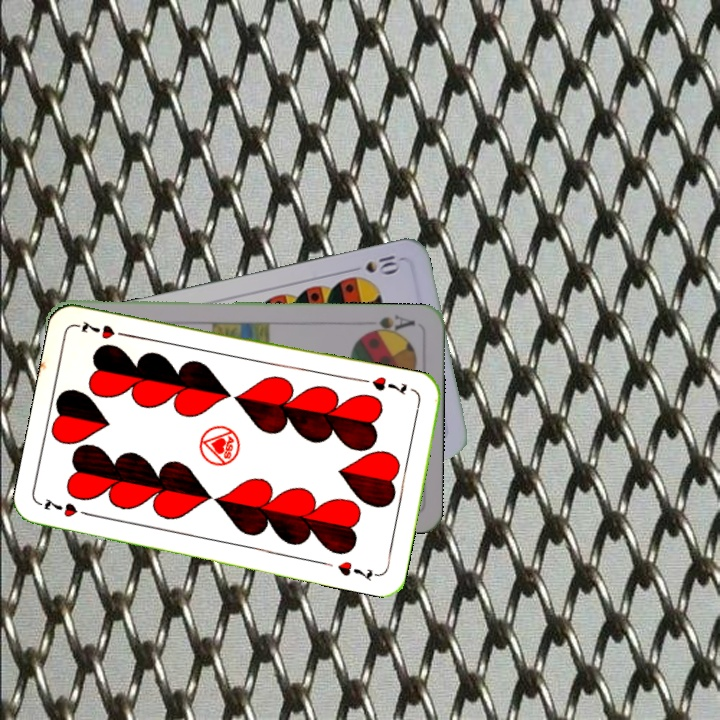H7: (37, 494, 96, 520), (368, 372, 410, 398)
S10: (361, 251, 403, 276)
SA: (359, 311, 418, 338)
